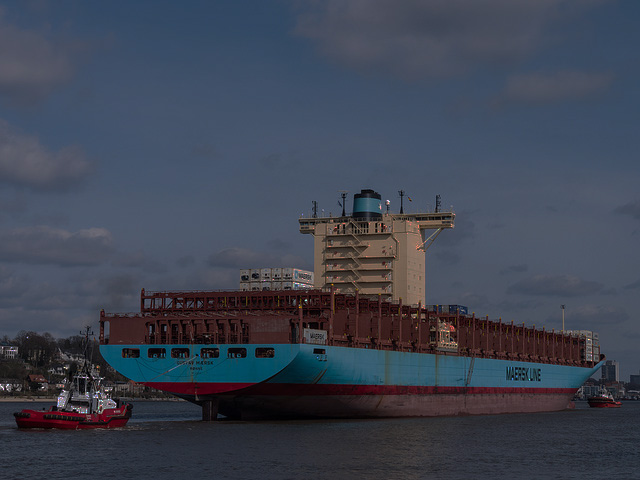container_ship: (101, 178, 597, 413)
tug_boat: (21, 329, 135, 434), (589, 379, 625, 408)
